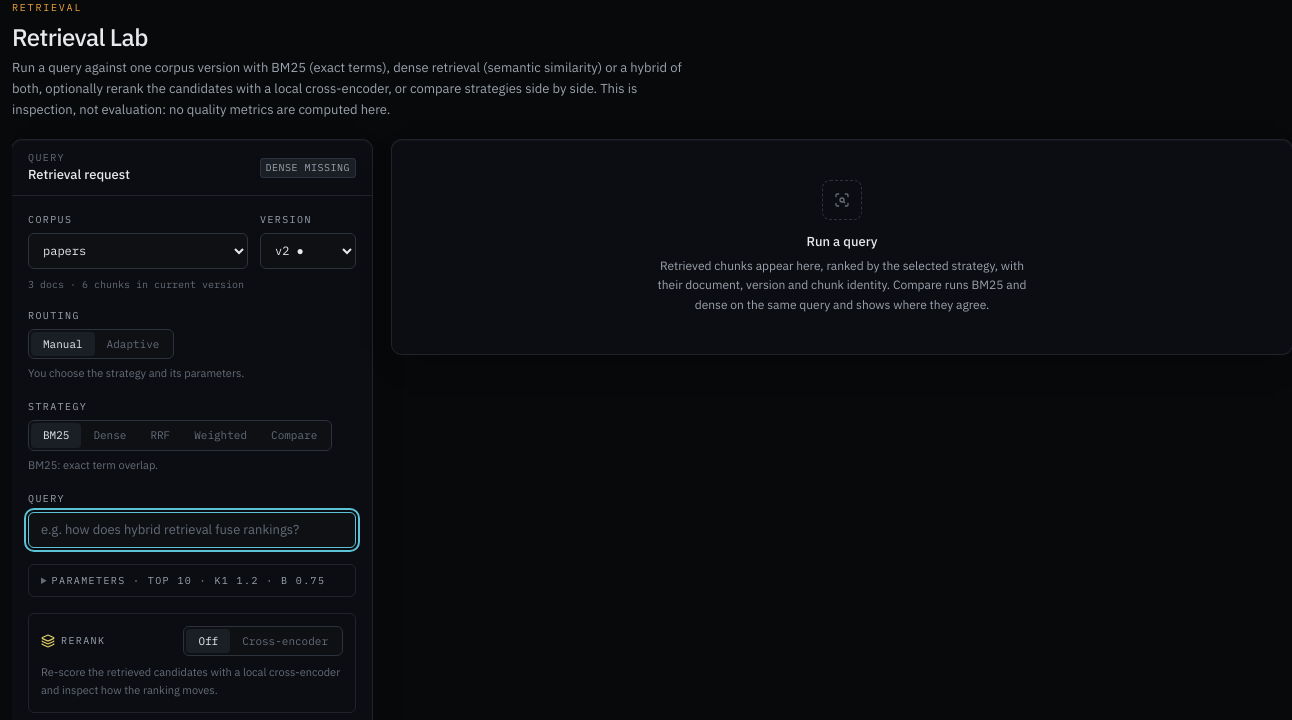
Scenario: dense gating › disables dense retrieval until the version has a ready index
The image size is (1292, 720).
Type "semantic" into the field labelled "Query" at (192, 530), box x1=28 y1=512 x2=356 y2=548
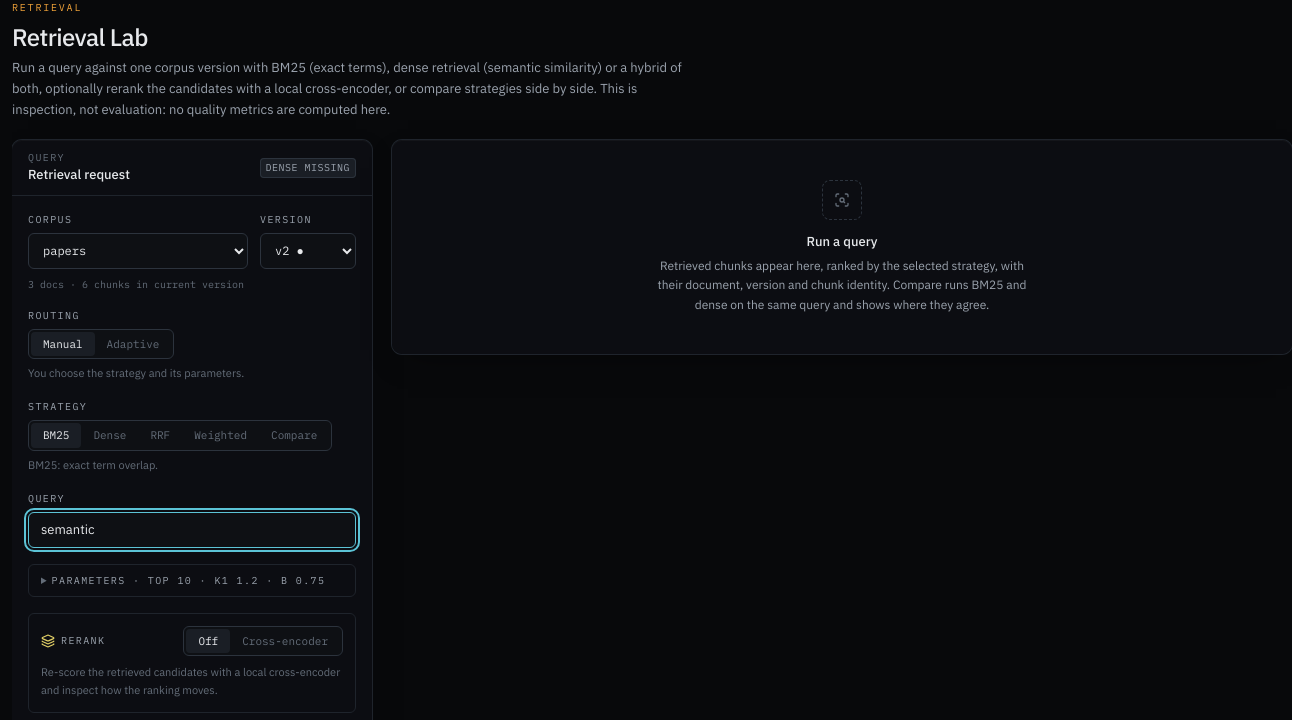
Click the radio button labelled "Dense" at (110, 435), box x1=93 y1=428 x2=126 y2=442
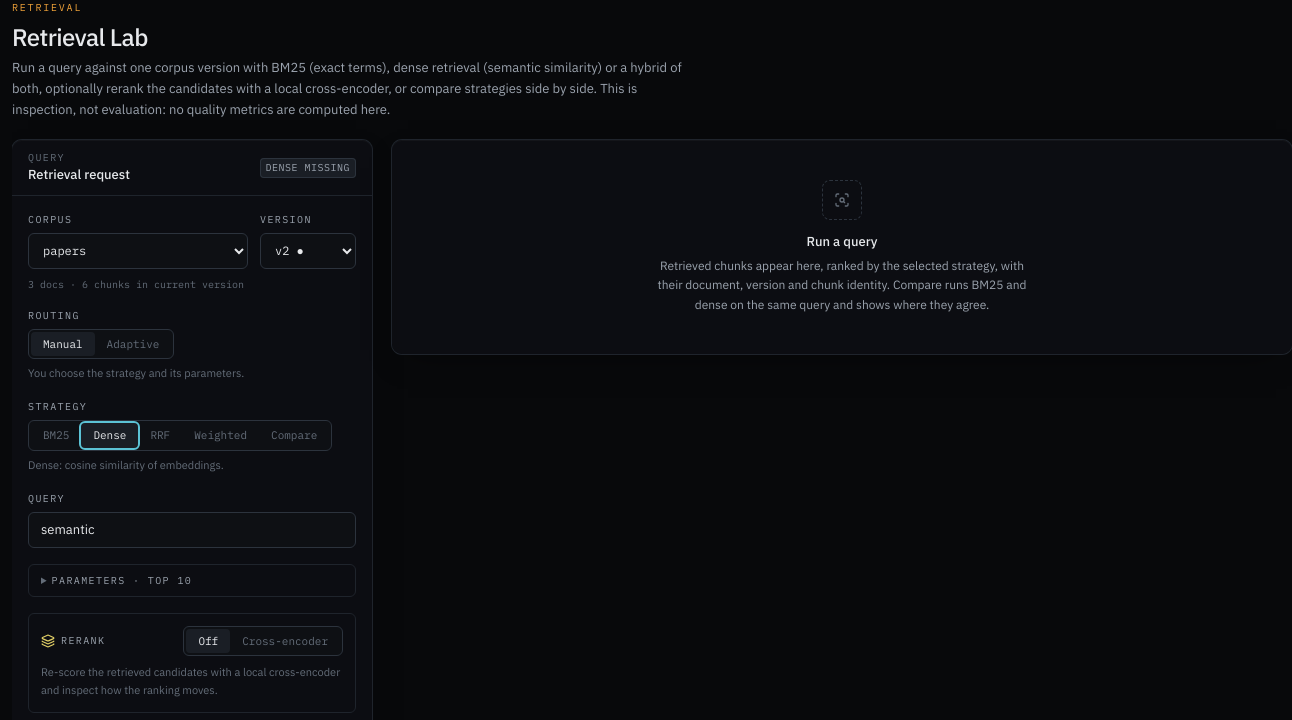
Click the radio button labelled "BM25" at (56, 435), box x1=43 y1=428 x2=69 y2=442
(page scrolled)
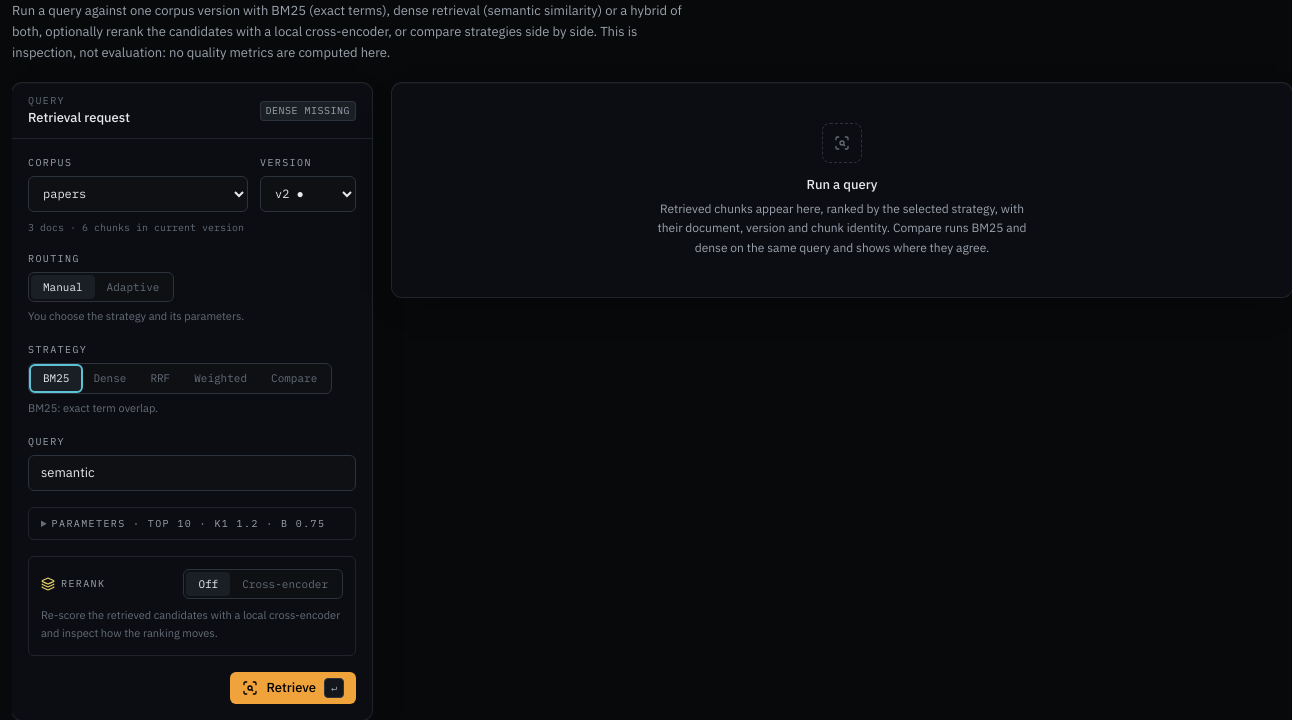
Now the button "Retrieve ↵" is enabled, box x1=230 y1=672 x2=356 y2=704
